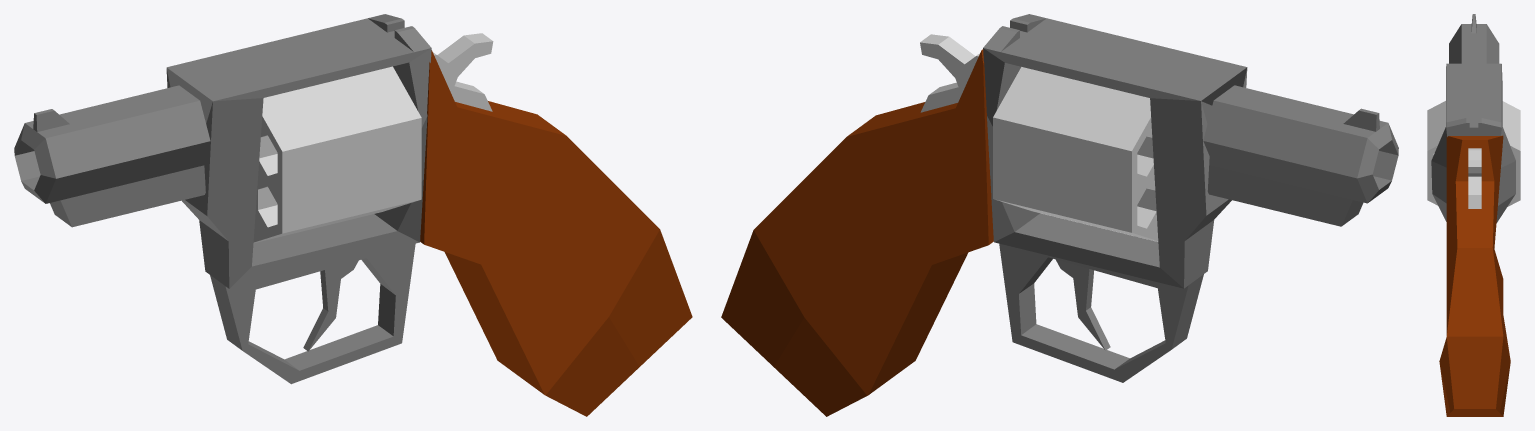
The model's file is gun.fbx.
3 renders of one model, left to right at view 1: azimuth 30°, elevation 25°; view 2: azimuth 150°, elevation 25°; view 3: azimuth 270°, elevation 25°, orthographic. The views are drawn at different scales.
Visible parts, largest first — view 1: Grip_Cube.001, Receiver_Cube, Cylinder_Cube.003, Barrel_Cylinder.001, Hammer_Cube.002; view 2: Grip_Cube.001, Receiver_Cube, Cylinder_Cube.003, Barrel_Cylinder.001, Hammer_Cube.002; view 3: Grip_Cube.001, Receiver_Cube, Cylinder_Cube.003, Barrel_Cylinder.001, Hammer_Cube.002.
Part boxes in pixels (box(x1,y1,x2,y2)): Grip_Cube.001: box(420, 50, 692, 416); Receiver_Cube: box(166, 14, 431, 384); Cylinder_Cube.003: box(253, 66, 421, 243); Barrel_Cylinder.001: box(14, 85, 210, 227); Hammer_Cube.002: box(433, 33, 493, 111); Grip_Cube.001: box(721, 49, 993, 416); Receiver_Cube: box(983, 14, 1247, 382); Cylinder_Cube.003: box(993, 67, 1158, 241); Barrel_Cylinder.001: box(1201, 85, 1398, 226); Hammer_Cube.002: box(920, 34, 979, 112); Grip_Cube.001: box(1439, 135, 1510, 416); Receiver_Cube: box(1431, 63, 1515, 222); Cylinder_Cube.003: box(1427, 101, 1520, 206); Barrel_Cylinder.001: box(1449, 14, 1499, 63); Hammer_Cube.002: box(1468, 148, 1481, 208).
Size of the model in its own units: 680 by 416 by 142.
